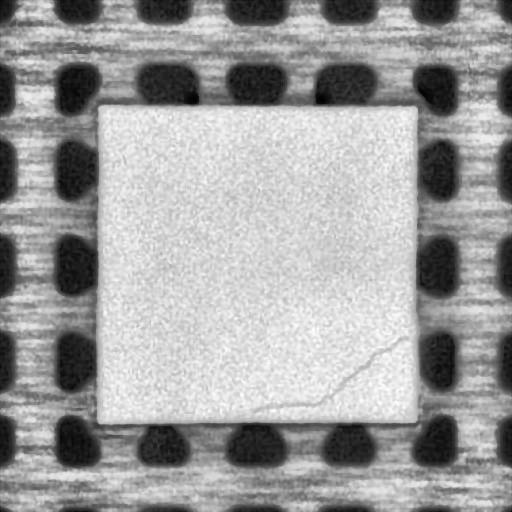DIE_CRACK: (252, 334, 409, 413)
